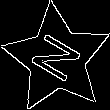N_SE: (26, 29, 88, 89)
